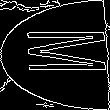M_E: (5, 31, 105, 79)
